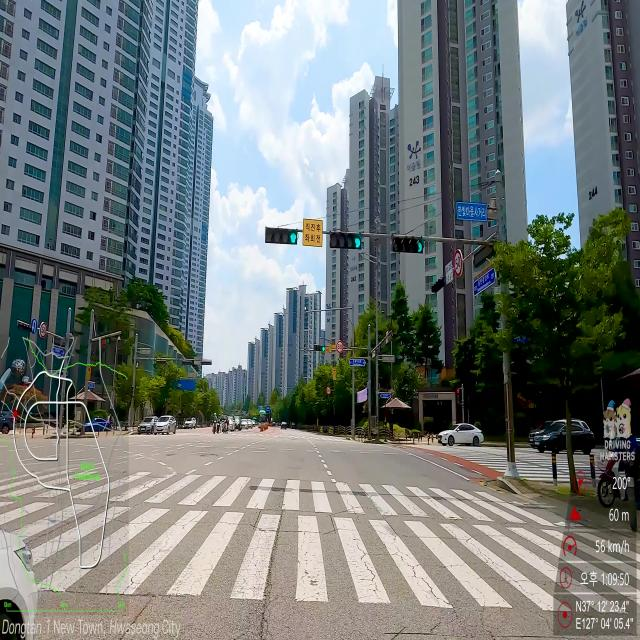Green Light: (416, 238, 424, 252), (290, 230, 297, 244), (354, 234, 361, 248), (322, 346, 325, 351)
